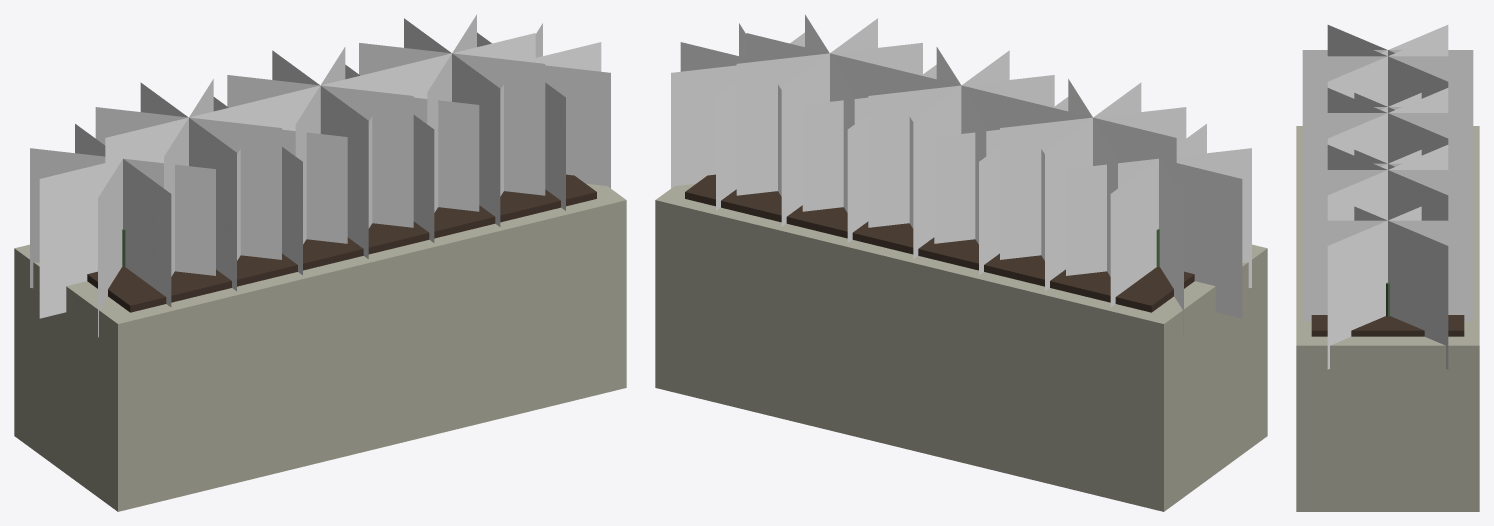
3 views of the same model, side by side, from view 1: azimuth 30°, elevation 25°; view 2: azimuth 150°, elevation 25°; view 3: azimuth 270°, elevation 25° (orthographic). The views are drawn at different scales.
Parts seen in each view (by area): view 1: a02; view 2: a02; view 3: a02.
Boxes of the visible parts, x1,y1,x2,y2 form: a02: (14,14,626,511); a02: (655,14,1267,511); a02: (1296,25,1479,511).
Size of the model in its own units: 0.939 by 0.5216 by 0.3.
